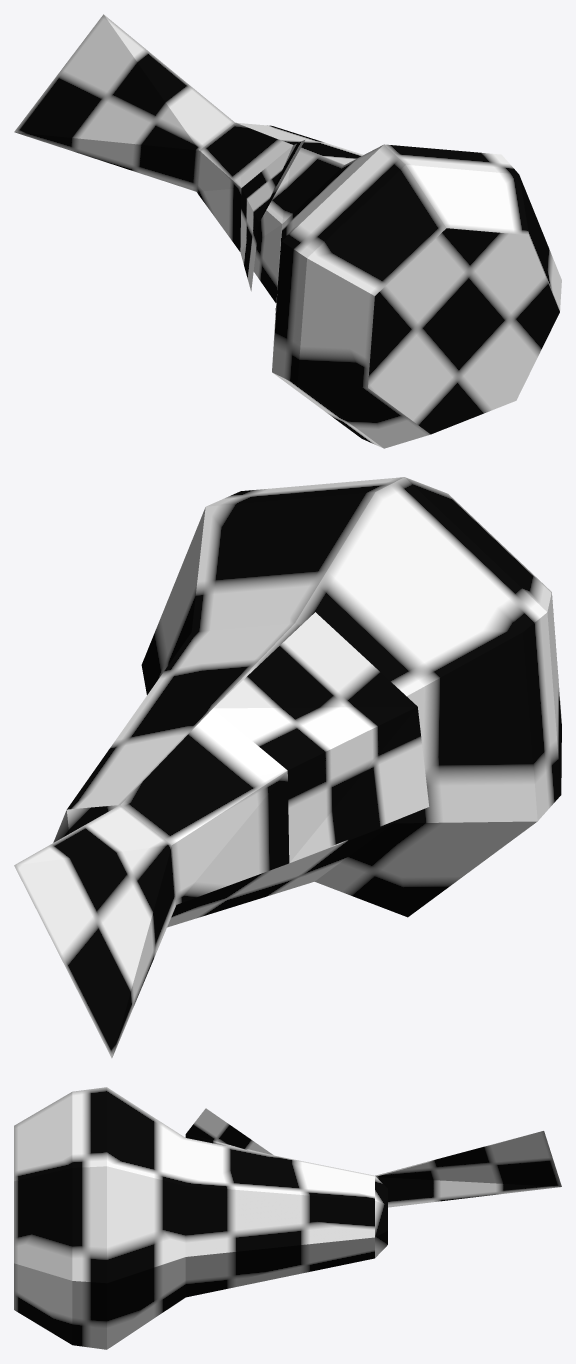
The model's file is initqu42.dae.
3 views of the same model, one above another, from view 1: azimuth 30°, elevation 25°; view 2: azimuth 150°, elevation 25°; view 3: azimuth 270°, elevation 25° (orthographic). The views are drawn at different scales.
Parts seen in each view (by area): view 1: item; view 2: item; view 3: item.
Part boxes in pixels (left/top/right/bottom): item: left=14, top=14, right=561, bottom=448; item: left=14, top=477, right=561, bottom=1058; item: left=14, top=1087, right=561, bottom=1349.
Bounding box in the file's own units: 0.8208 × 1.73 × 0.8266.
Materials: 1 (1 with a texture image).
